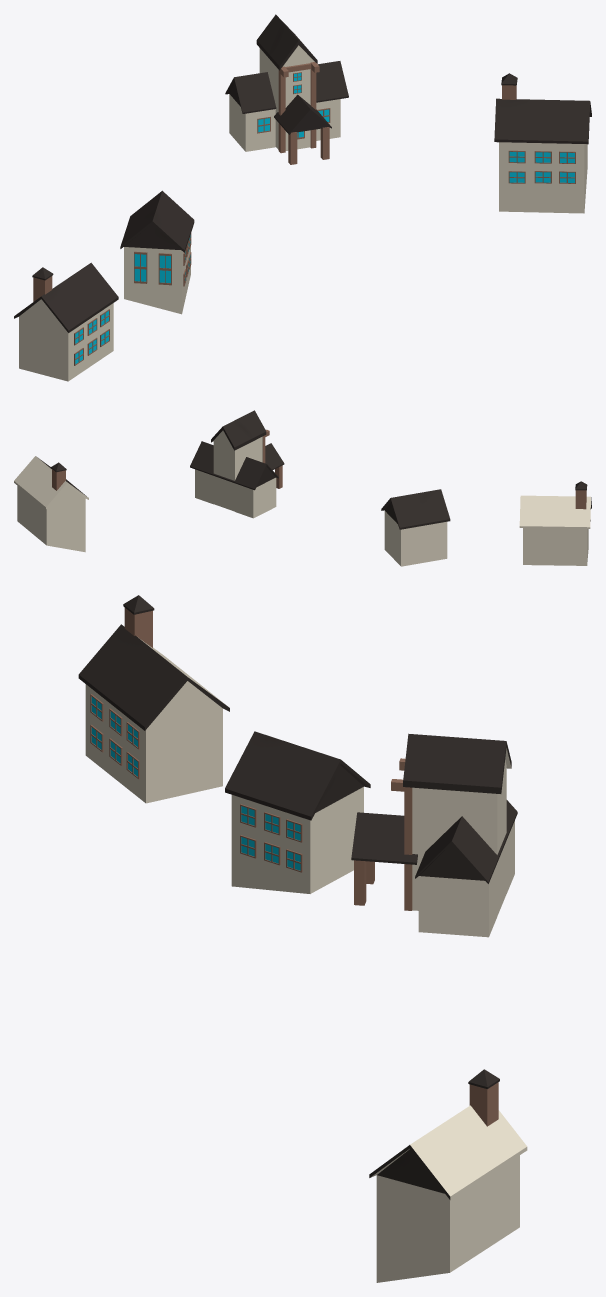
File: BackgroundHouses.gltf
3 views of the same model, one above another, from view 1: azimuth 30°, elevation 25°; view 2: azimuth 150°, elevation 25°; view 3: azimuth 270°, elevation 25° (orthographic). The views are drawn at different scales.
Visible parts, largest first — view 1: Cube.126; view 2: Cube.126; view 3: Cube.126.
Part boxes in pixels (x1,y1,x2,y2): Cube.126: (14, 14, 591, 381); Cube.126: (14, 410, 591, 566); Cube.126: (78, 595, 527, 1282).
Bounding box in the file's own units: 47.16 × 15.53 × 18.15.
1 material, 1 textured.
